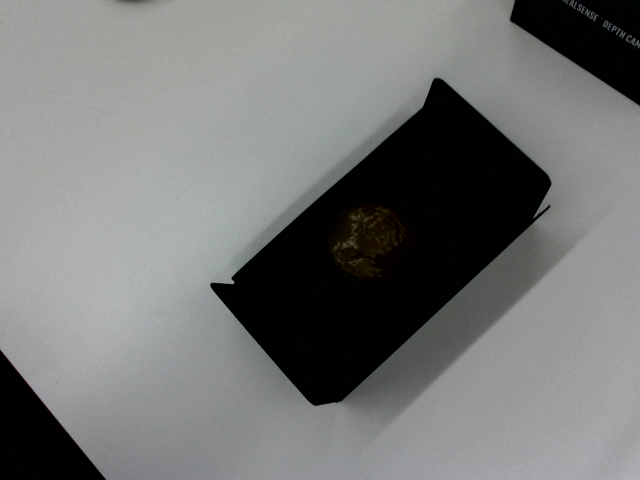walnut: (319, 192, 413, 289)
